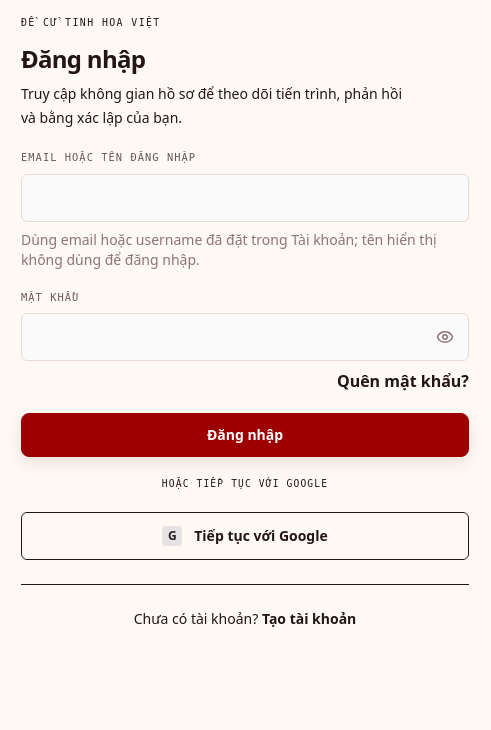
Test: LoginForm › sends a verification email instead of exchanging an unverified Firebase identity
Step 1. Type "blockchainadmin@gmail.com" into the field labelled "Email hoặc tên đăng nhập" → (245, 198), box [21,174,469,222]
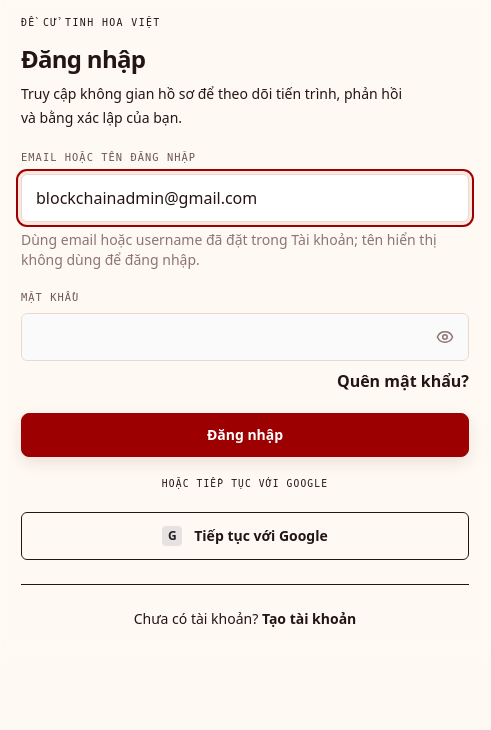
Step 2. Type "valid password" into the password field labelled "Mật khẩu" → (245, 337), box [21,313,469,361]
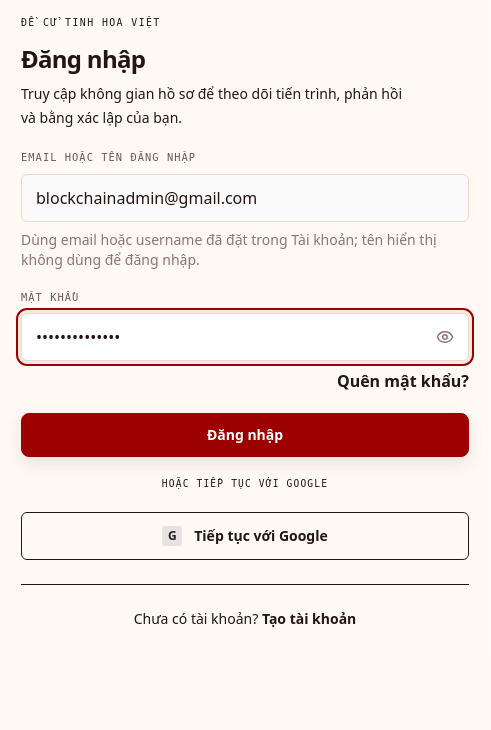
Step 3. Click the button "Đăng nhập" → (245, 435), box [21,413,469,457]
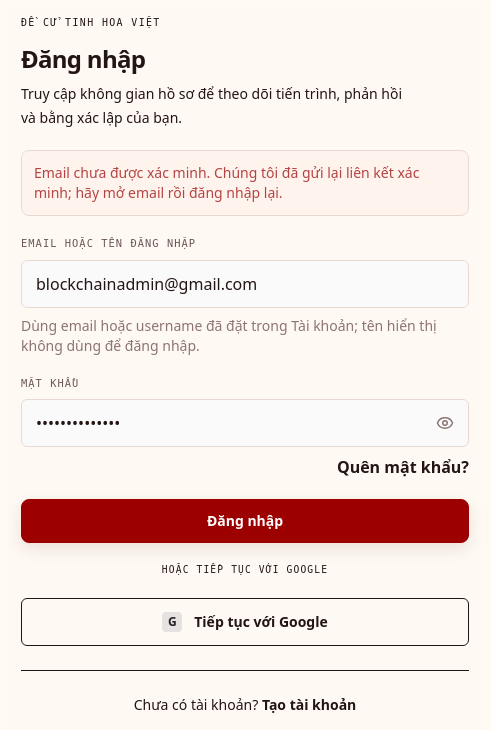
expect the message shows "Email chưa được xác minh": met, box [34,163,419,202]
